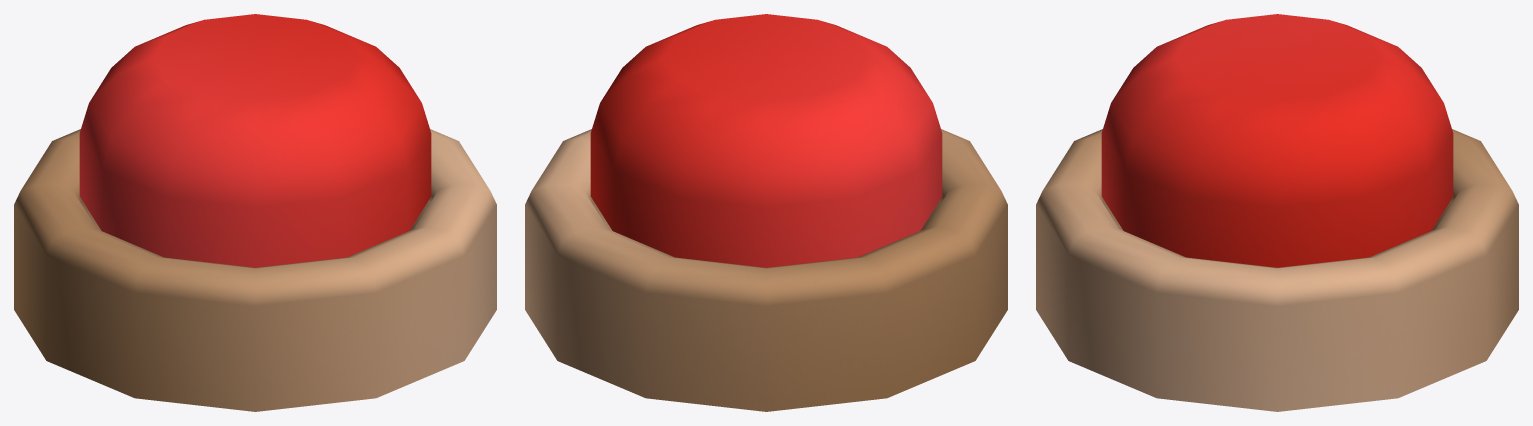
File: ButtonRound.fbx
The picture shows the model from 3 angles, left to right: view 1: azimuth 30°, elevation 25°; view 2: azimuth 150°, elevation 25°; view 3: azimuth 270°, elevation 25°; orthographic projection.
Parts seen in each view (by area): view 1: ButtonRound, Round; view 2: ButtonRound, Round; view 3: ButtonRound, Round.
Part boxes in pixels (x1=…): ButtonRound: x1=14, y1=129, x2=496, y2=411; Round: x1=79, y1=14, x2=431, y2=267; ButtonRound: x1=525, y1=129, x2=1007, y2=411; Round: x1=590, y1=14, x2=942, y2=267; ButtonRound: x1=1036, y1=129, x2=1518, y2=411; Round: x1=1101, y1=14, x2=1453, y2=267.
Size of the model in its own units: 127 by 73.52 by 127.
